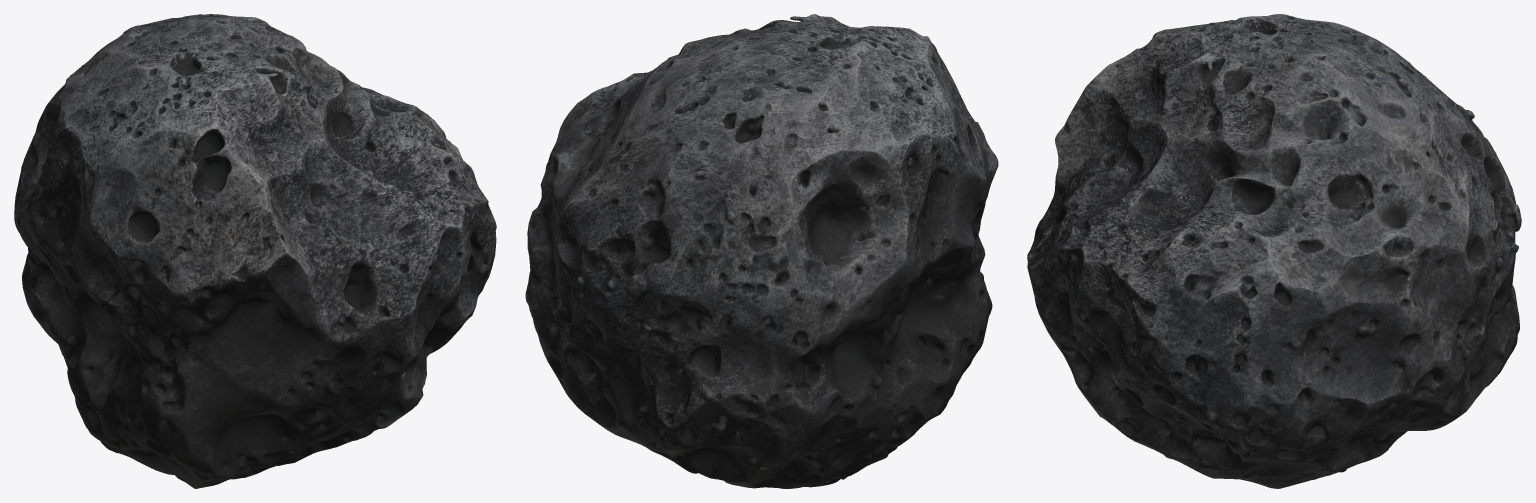
The model's file is meteoro.glb.
3 renders of one model, left to right at view 1: azimuth 30°, elevation 25°; view 2: azimuth 150°, elevation 25°; view 3: azimuth 270°, elevation 25°, orthographic. The views are drawn at different scales.
Parts seen in each view (by area): view 1: tripo_node_b47607e6-63b9-4a33-a1f0-191e4d852fe3; view 2: tripo_node_b47607e6-63b9-4a33-a1f0-191e4d852fe3; view 3: tripo_node_b47607e6-63b9-4a33-a1f0-191e4d852fe3.
Boxes of the visible parts, x1=… form: tripo_node_b47607e6-63b9-4a33-a1f0-191e4d852fe3: x1=14, y1=14, x2=496, y2=488; tripo_node_b47607e6-63b9-4a33-a1f0-191e4d852fe3: x1=525, y1=14, x2=998, y2=488; tripo_node_b47607e6-63b9-4a33-a1f0-191e4d852fe3: x1=1027, y1=14, x2=1521, y2=488.
Bounding box in the file's own units: 0.4515 × 0.4681 × 0.5.
Materials: 1 (1 with a texture image).
